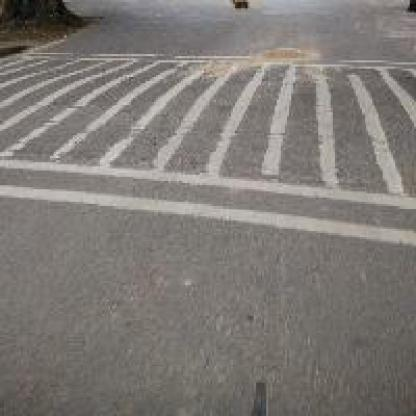Speed Bump: (0, 46, 414, 250)
